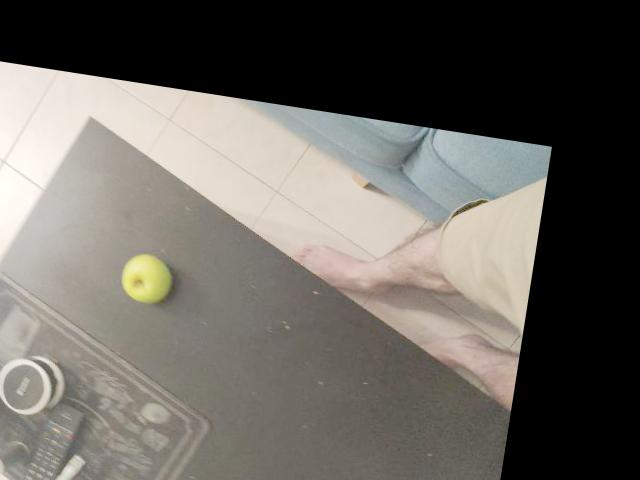apple: (47, 251, 112, 327)
